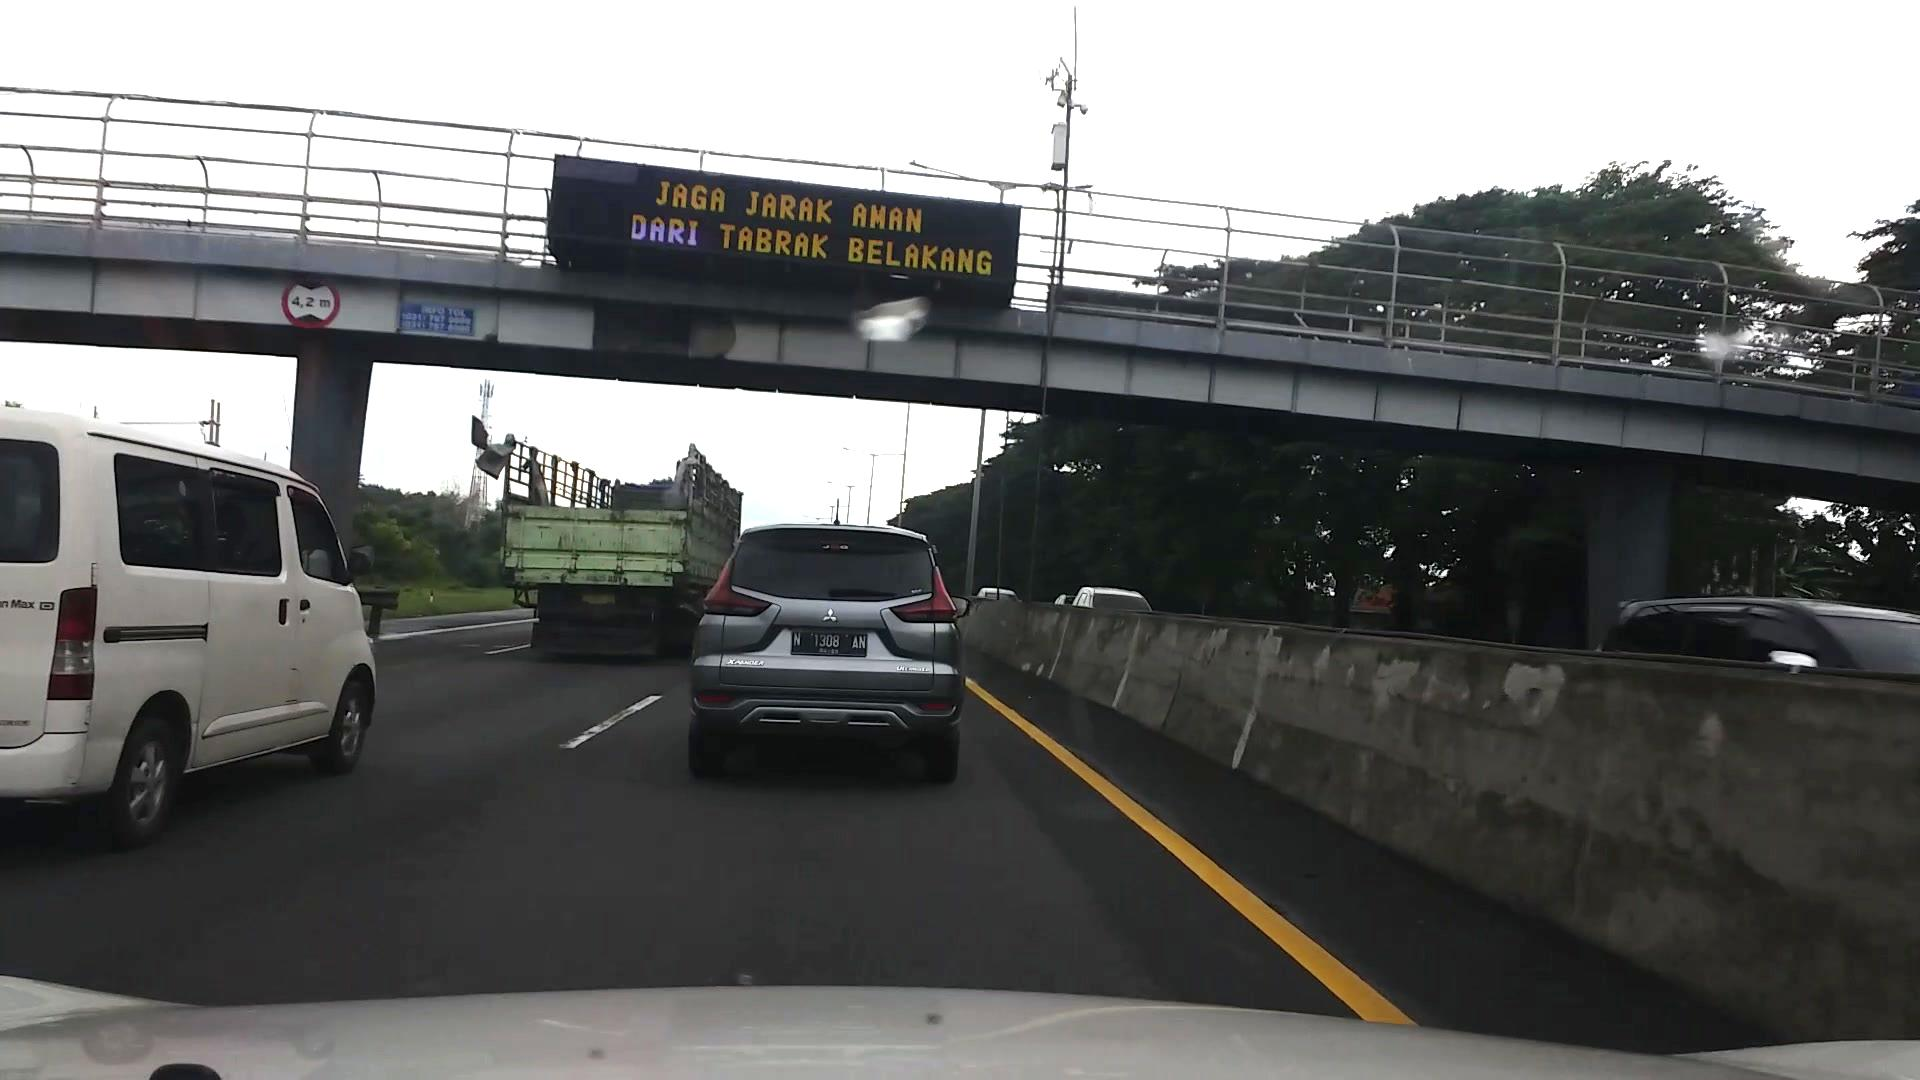plate_positive: (791, 629, 866, 658)
